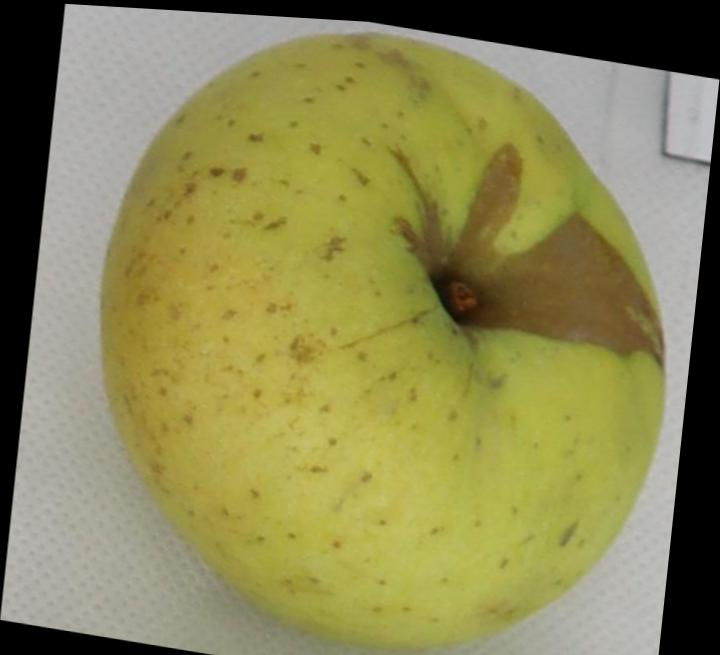apple: (103, 30, 666, 645)
bruise_discoloration: (393, 142, 663, 363)
